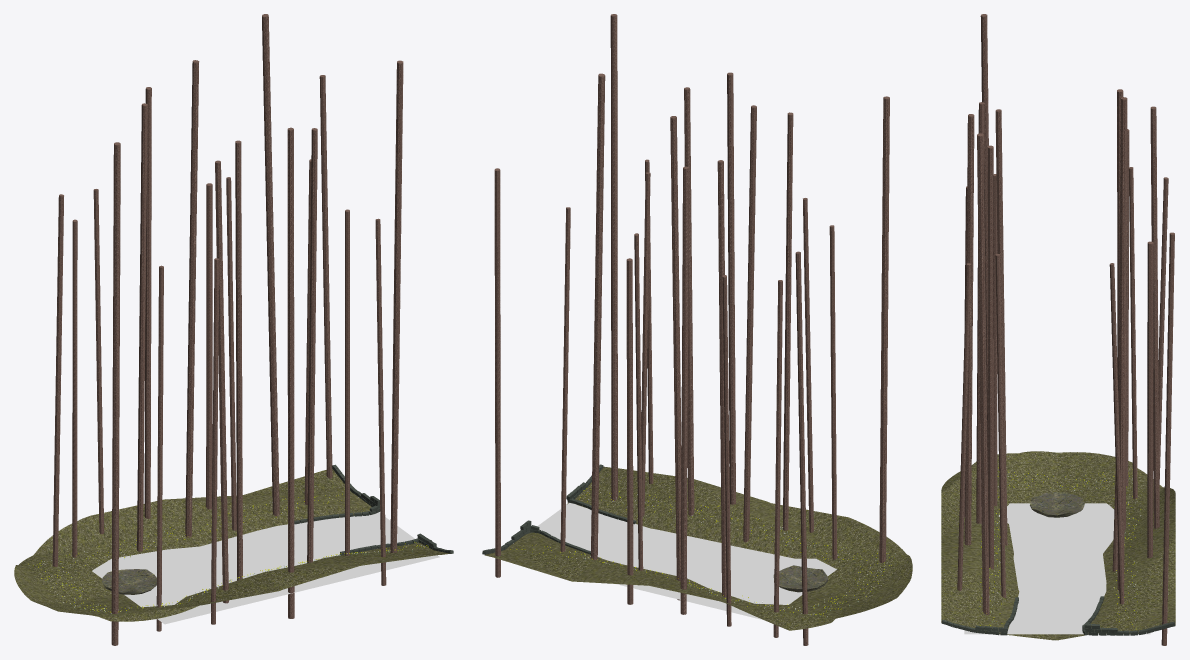
The model's file is forest30.glb.
The picture shows the model from 3 angles, left to right: view 1: azimuth 30°, elevation 25°; view 2: azimuth 150°, elevation 25°; view 3: azimuth 270°, elevation 25°; orthographic projection. The views are drawn at different scales.
Visible parts, largest first — view 1: Trees, Landscape.1, Water, Base; view 2: Trees, Landscape.1, Water, Base; view 3: Trees, Landscape.1, Water, Base.
Boxes of the visible parts, x1=… form: Trees: x1=52, y1=14, x2=403, y2=645; Landscape.1: x1=14, y1=469, x2=449, y2=621; Water: x1=92, y1=512, x2=439, y2=624; Base: x1=102, y1=569, x2=156, y2=594; Trees: x1=494, y1=14, x2=889, y2=645; Landscape.1: x1=484, y1=466, x2=912, y2=630; Water: x1=537, y1=503, x2=836, y2=620; Base: x1=773, y1=565, x2=828, y2=592; Trees: x1=957, y1=14, x2=1174, y2=645; Landscape.1: x1=941, y1=451, x2=1175, y2=640; Water: x1=964, y1=503, x2=1150, y2=634; Base: x1=1030, y1=492, x2=1084, y2=517.
Bounding box in the file's own units: 229 × 319 × 131.
7 materials, 4 textured.
